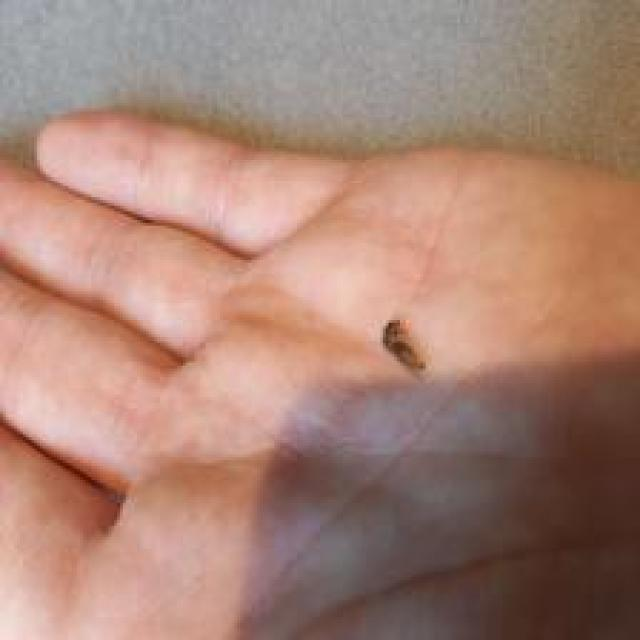Culex: (382, 317, 427, 374)
